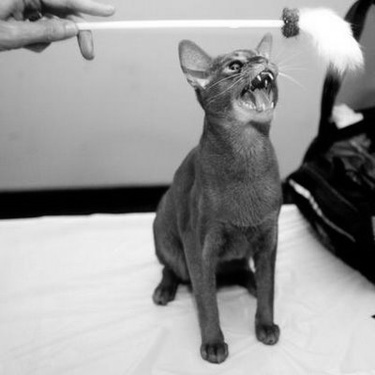cat: (149, 32, 281, 364)
